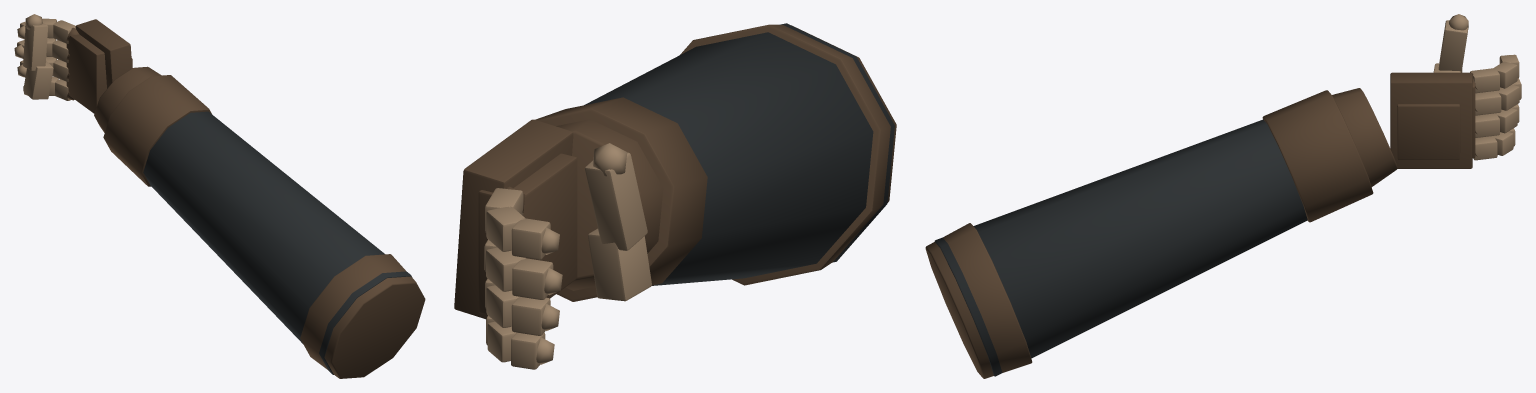
Rendered from SM_Main_Droite.glb.
3 renders of one model, left to right at view 1: azimuth 30°, elevation 25°; view 2: azimuth 150°, elevation 25°; view 3: azimuth 270°, elevation 25°, orthographic. The views are drawn at different scales.
Visible parts, largest first — view 1: Main_Droite; view 2: Main_Droite; view 3: Main_Droite.
Boxes of the visible parts, bbox=[...] form: Main_Droite: bbox=[14, 14, 425, 378]; Main_Droite: bbox=[454, 23, 896, 369]; Main_Droite: bbox=[925, 14, 1521, 378].
Size of the model in its own units: 0.1904 by 0.2311 by 0.4349.
